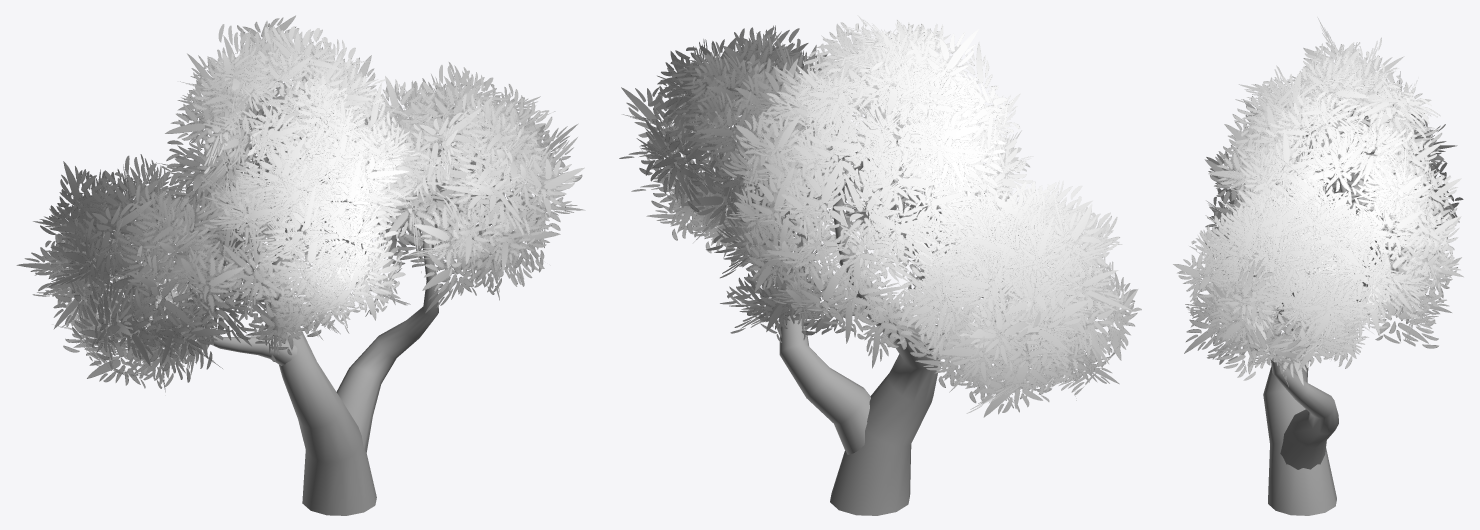
Rendered from ManggoTree.fbx.
3 views of the same model, side by side, from view 1: azimuth 30°, elevation 25°; view 2: azimuth 150°, elevation 25°; view 3: azimuth 270°, elevation 25° (orthographic). The views are drawn at different scales.
Visible parts, largest first — view 1: ManggoLeavesLOD0, ManggoTrunkLOD0; view 2: ManggoLeavesLOD0, ManggoTrunkLOD0; view 3: ManggoLeavesLOD0, ManggoTrunkLOD0.
Part boxes in pixels (bbox=[...]): ManggoLeavesLOD0: bbox=[16, 15, 585, 392]; ManggoTrunkLOD0: bbox=[153, 140, 455, 515]; ManggoLeavesLOD0: bbox=[619, 15, 1141, 417]; ManggoTrunkLOD0: bbox=[739, 140, 944, 515]; ManggoLeavesLOD0: bbox=[1173, 17, 1463, 386]; ManggoTrunkLOD0: bbox=[1263, 154, 1369, 515].
Size of what is drawn, in the model's own units: 1136 by 1006 by 613.
Materials: 2 (1 with a texture image).
